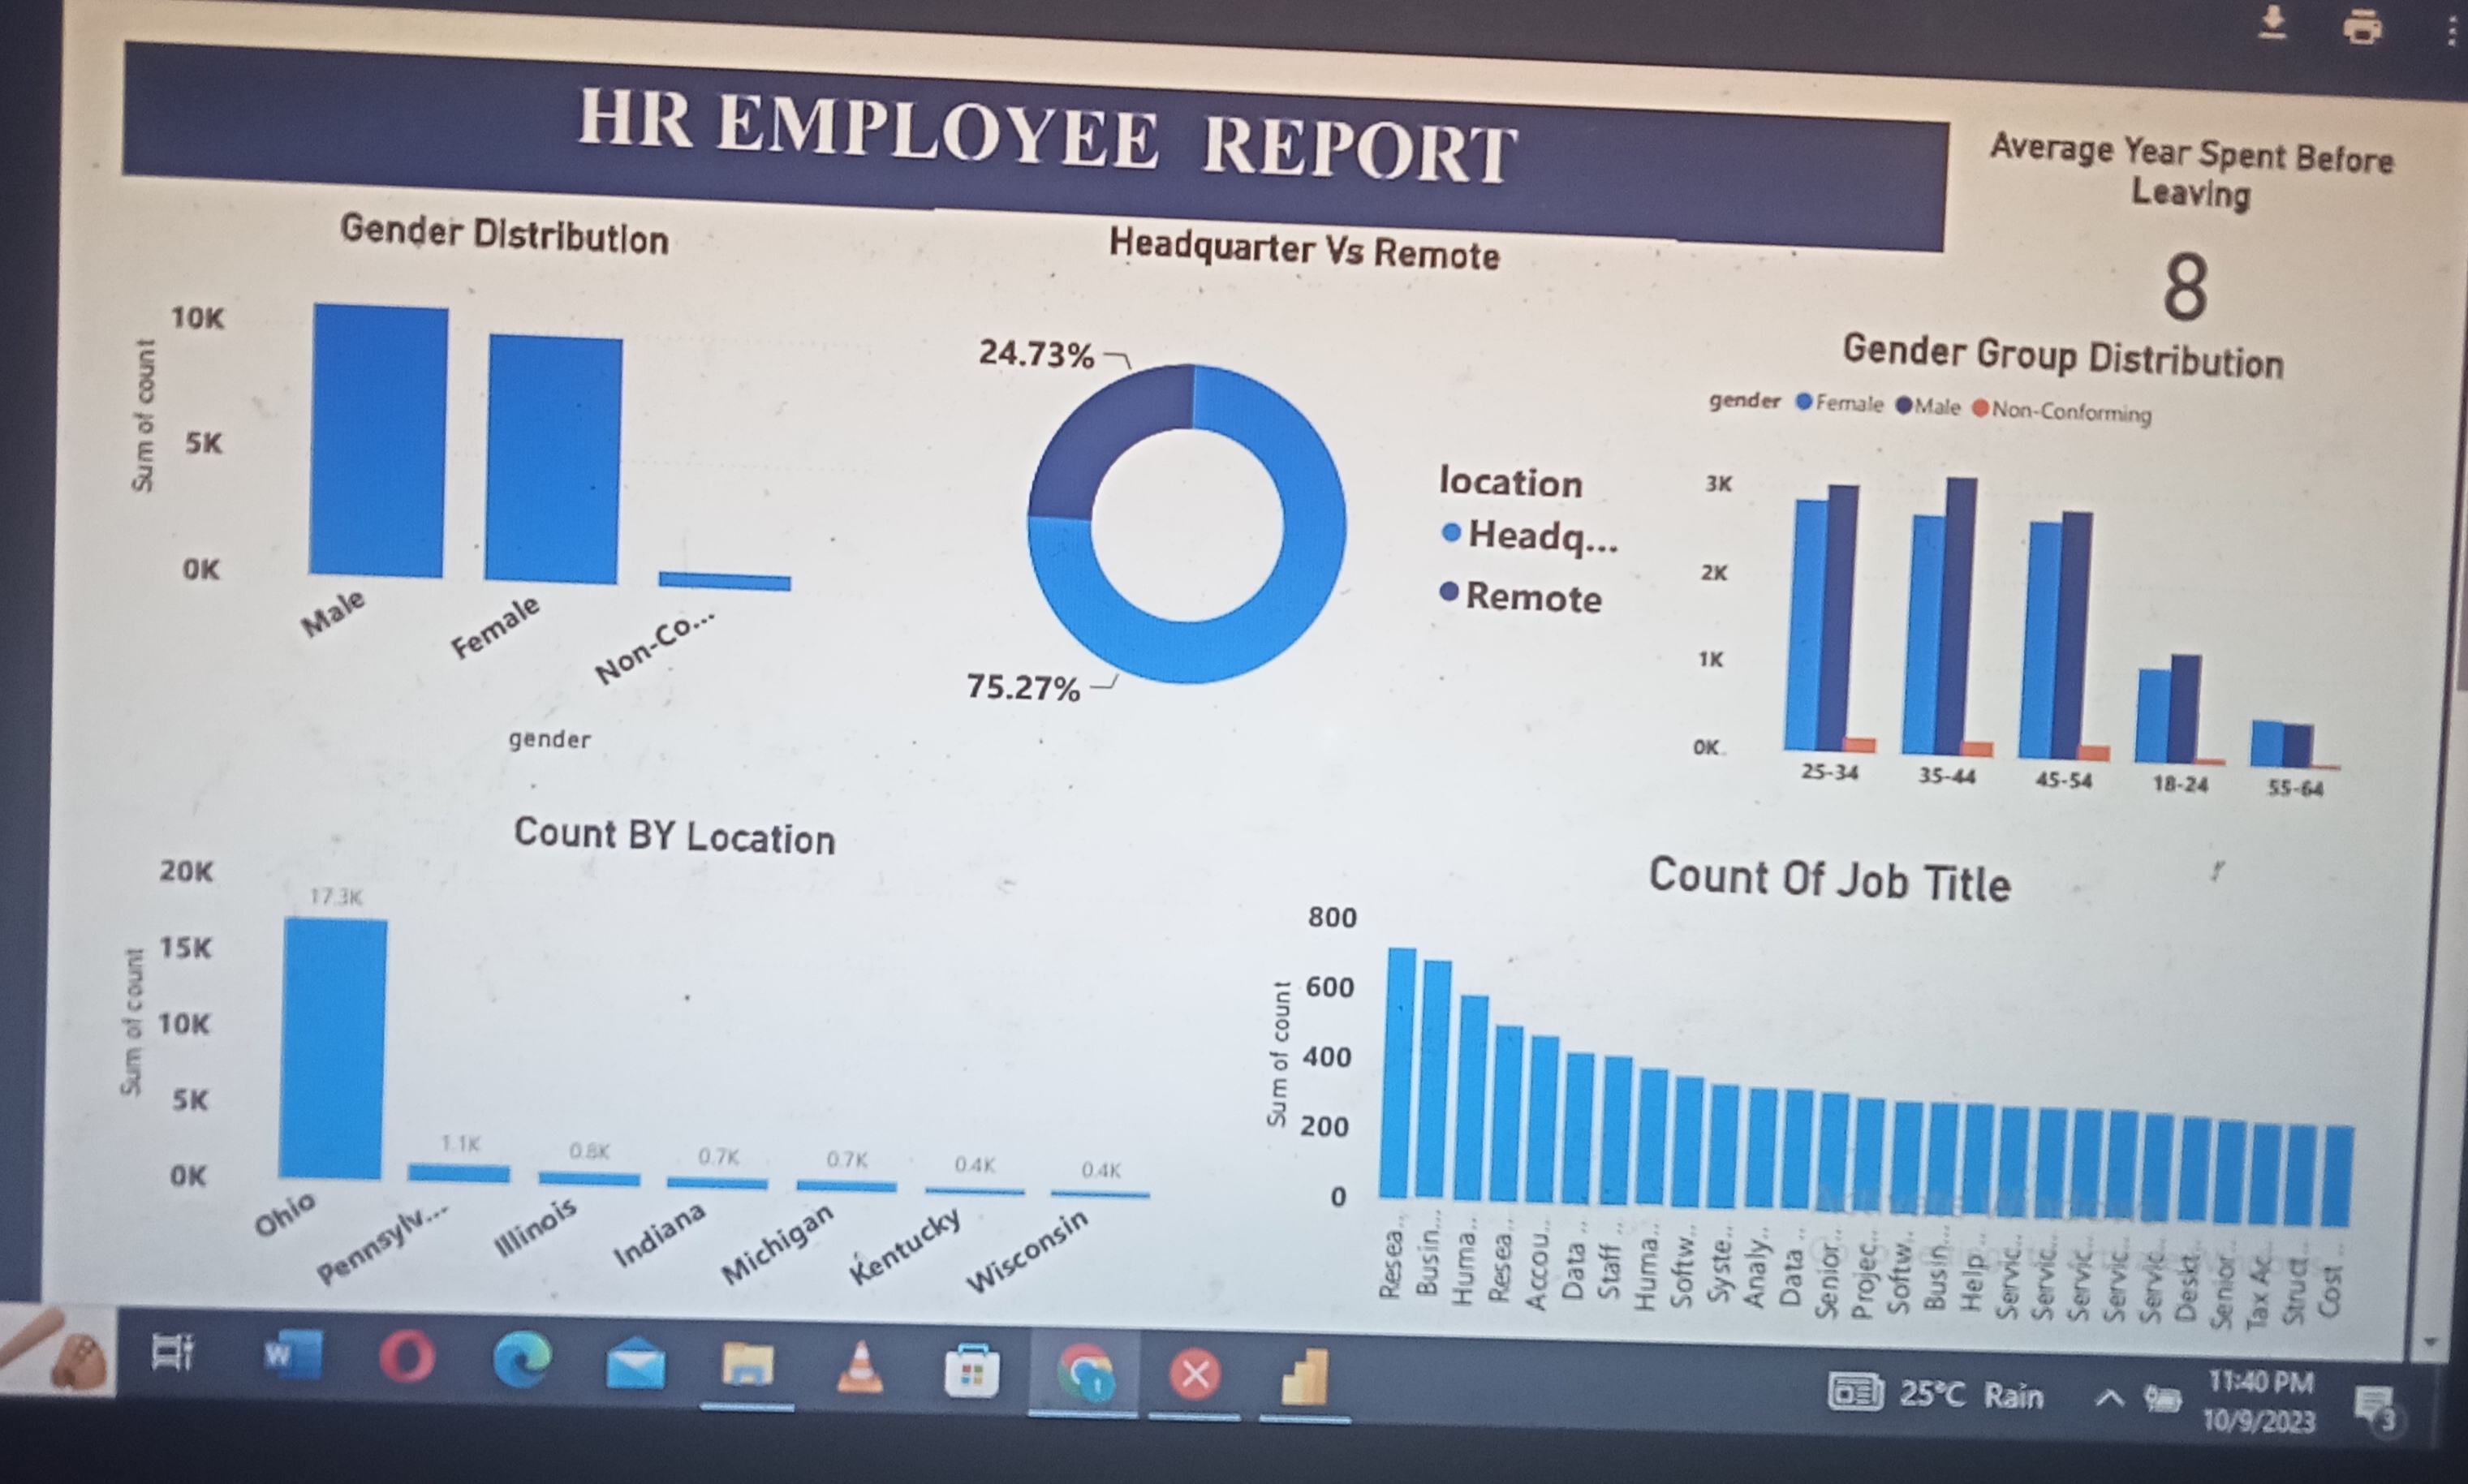

What the dashboard file says about the page in this screenshot:
{"tool":"powerbi","page":{"name":"Page 1","canvas":[1280,720],"ordinal":0},"visuals":[{"type":"textbox","box":[10.1,0,997.1,70.7],"z":0},{"type":"card","title":"Average Year Spent Before Leaving","fields":{"Values":["Avg(average age.avg_tenure)"]},"box":[1006.6,0,273.6,112.3],"z":1000},{"type":"columnChart","title":"Gender Distribution","fields":{"Y":["Sum(gender.count)"],"Category":["gender.gender"]},"box":[10.1,82.1,409,299.5],"z":2000},{"type":"donutChart","title":"Headquarter Vs Remote","fields":{"Category":["location.location"],"Y":["Sum(location.count)"]},"box":[446.4,70.6,409,311],"z":3000},{"type":"clusteredColumnChart","title":"Gender Group Distribution","fields":{"Category":["Age group, gender.age_group"],"Y":["Sum(Age group, gender.count)"],"Series":["Age group, gender.gender"]},"box":[874.1,112.8,405.9,269.5],"z":4000},{"type":"columnChart","title":"Count BY Location","fields":{"Category":["state.location_state"],"Y":["Sum(state.count)"]},"box":[10.1,407.6,608,311.6],"z":5000},{"type":"columnChart","title":"Count Of Job Title","fields":{"Y":["Sum(JOBTITLE.count)"],"Category":["JOBTITLE.jobtitle"]},"box":[640,407.6,640,311.6],"z":6001}]}

Visuals, with their boxes on the page's 1280x720 design canvas (x1, y1, x2, y2). These are canvas units, not pixel positions in the 2468x1484 screenshot, which may show the page scaled, cropped or inside an application window:
textbox: bbox(10, 0, 1007, 71)
"Average Year Spent Before Leaving" card: bbox(1007, 0, 1280, 112)
"Gender Distribution" columnChart: bbox(10, 82, 419, 382)
"Headquarter Vs Remote" donutChart: bbox(446, 71, 855, 382)
"Gender Group Distribution" clusteredColumnChart: bbox(874, 113, 1280, 382)
"Count BY Location" columnChart: bbox(10, 408, 618, 719)
"Count Of Job Title" columnChart: bbox(640, 408, 1280, 719)
